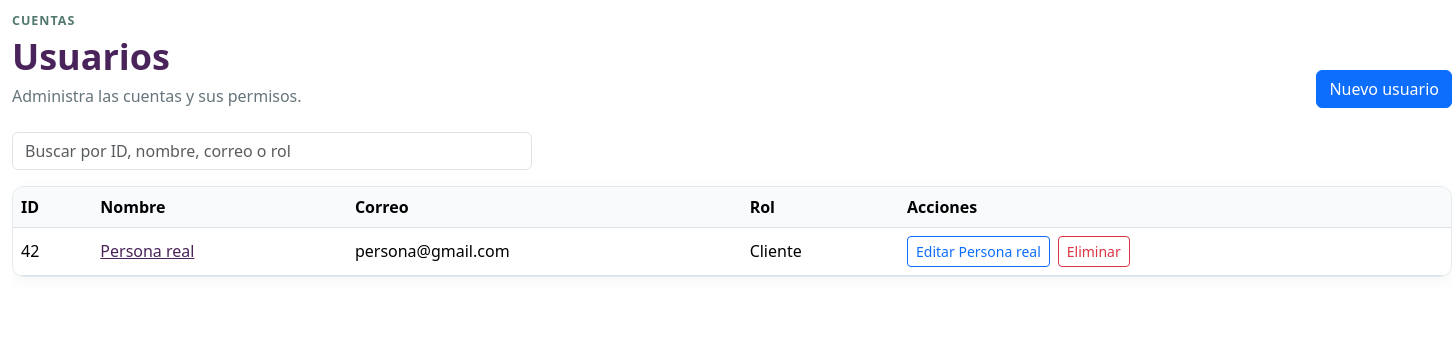
Test case: Perfiles reales › elimina usando el ID de Auth, después de confirmar
// Nota de lectura: Invoca la operación indicada con los argumentos de este bloque.
Click the button with aria-label "Eliminar Persona": (1094, 251) x1=1058 y1=236 x2=1130 y2=267
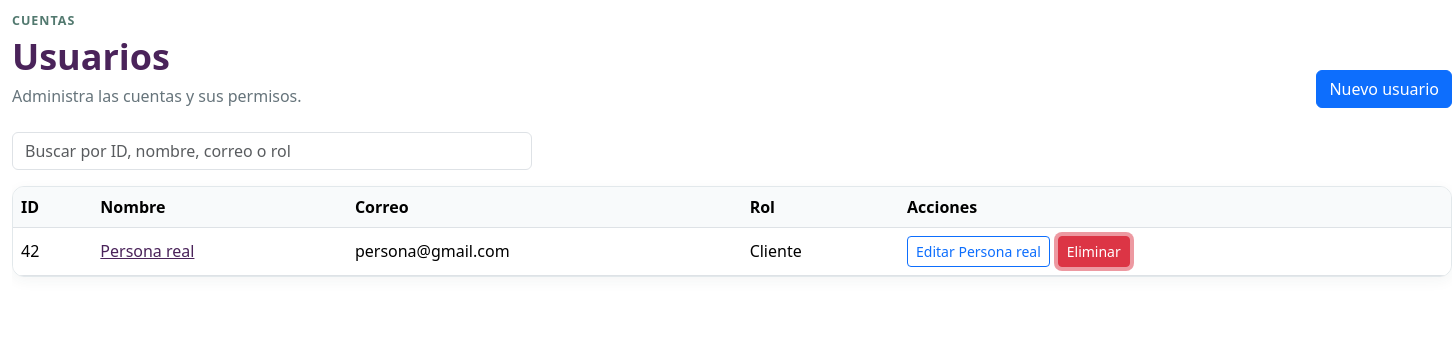
// Nota de lectura: Invoca la operación indicada con los argumentos de este bloque.
Click the button with aria-label "Eliminar Persona": (1094, 251) x1=1058 y1=236 x2=1130 y2=267
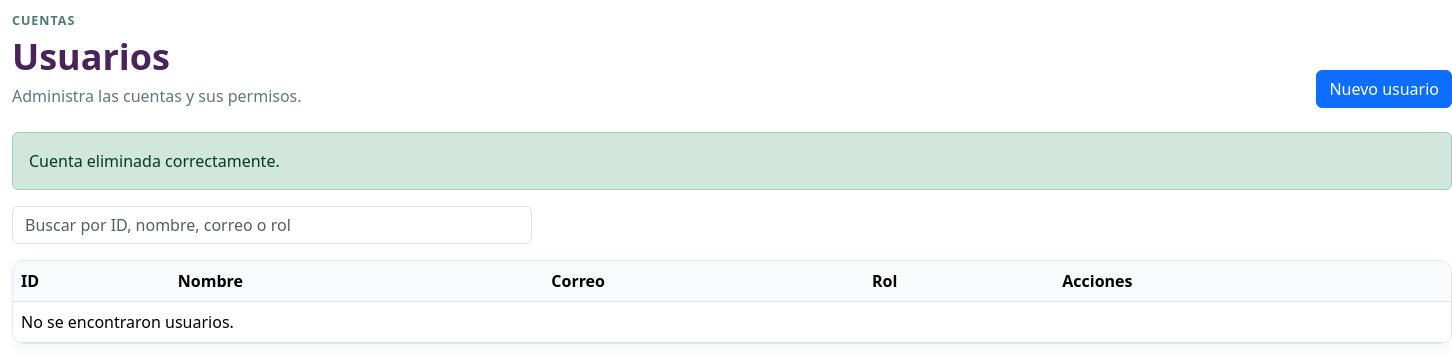
Check: the text "Cuenta eliminada correctamente." is shown, box x1=12 y1=132 x2=1451 y2=190
Check: the text "No se encontraron usuarios." is shown, box x1=13 y1=301 x2=1451 y2=342
